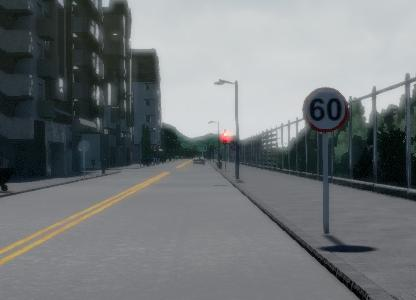Speed_60: (301, 85, 350, 134)
